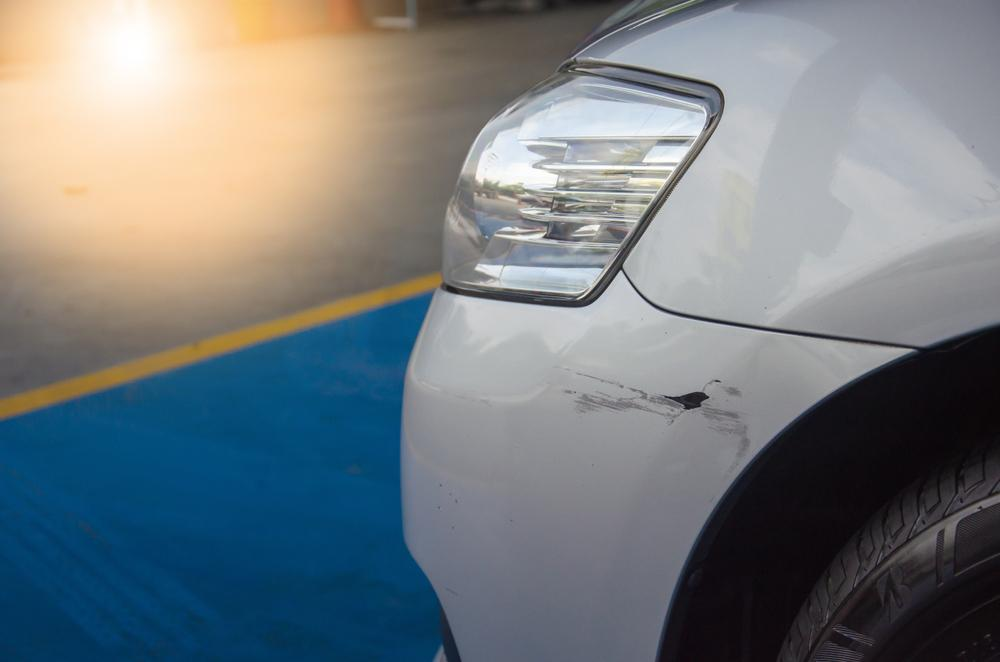scratch: (566, 367, 747, 476)
